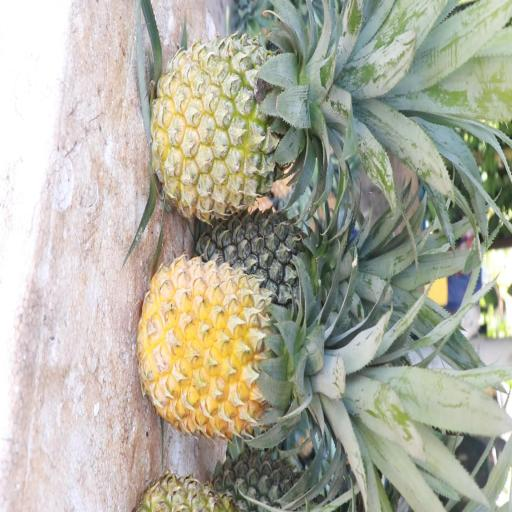------------------------------: (157, 37, 322, 216)
Pineapple - v8 v1: (141, 259, 336, 436)
